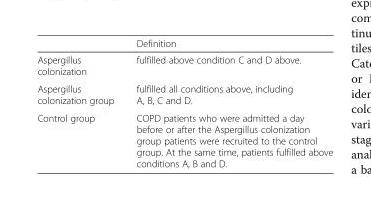table: (36, 37, 332, 168)
table column: (124, 37, 332, 168), (36, 37, 124, 168)
table column header: (36, 37, 332, 51)
table row: (36, 108, 332, 168), (36, 79, 332, 108), (36, 51, 332, 79), (36, 37, 332, 51)
